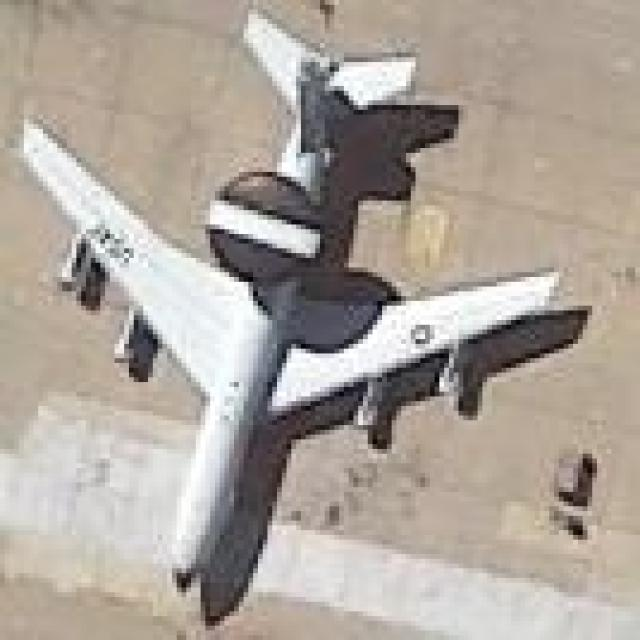E-3_TopDown: (15, 0, 592, 626)
